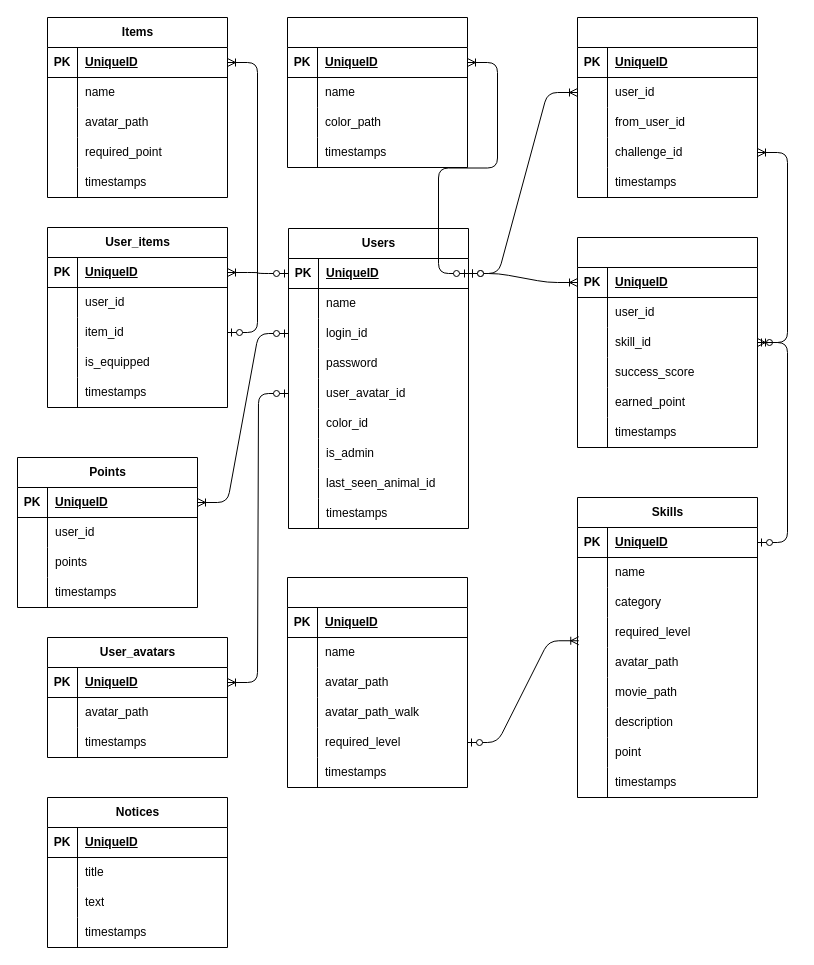
Image size: 814x965. Some labels were removed from this diagram. The box of each missing label's shape, as (x1, y1, x2, y2) in pixels:
Animals: (286, 576, 468, 788)
Challenges: (576, 236, 758, 448)
Colors: (286, 16, 468, 168)
Likes: (576, 16, 758, 198)
